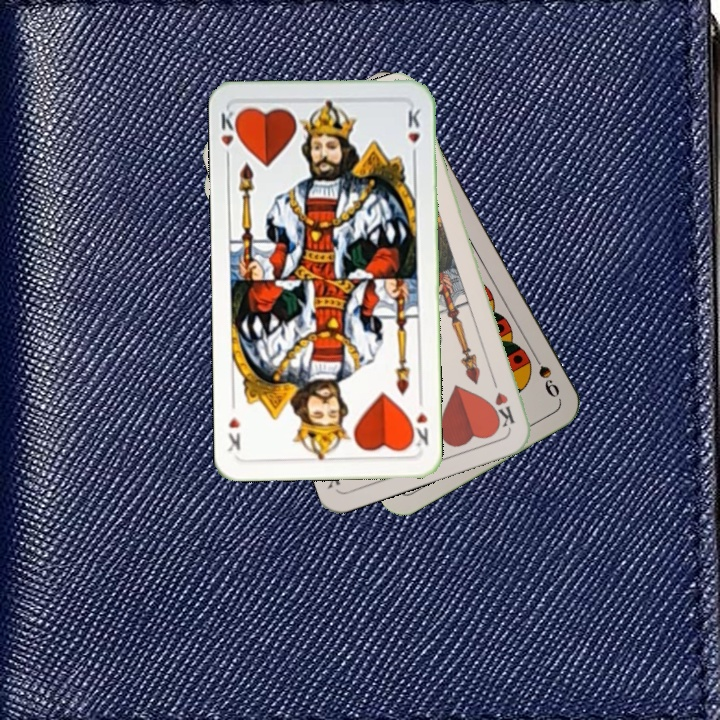HK: (487, 371, 518, 430), (216, 106, 243, 165), (406, 408, 431, 449)
S9: (527, 346, 563, 401)
